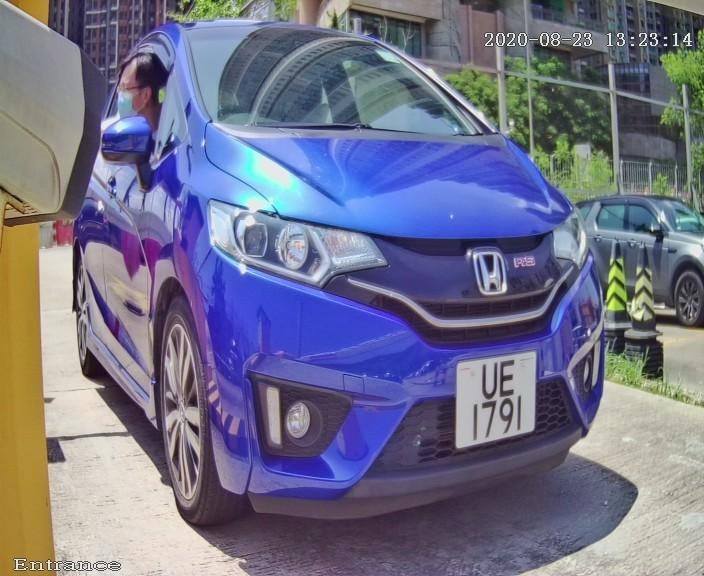License Plate: (444, 343, 541, 456)
